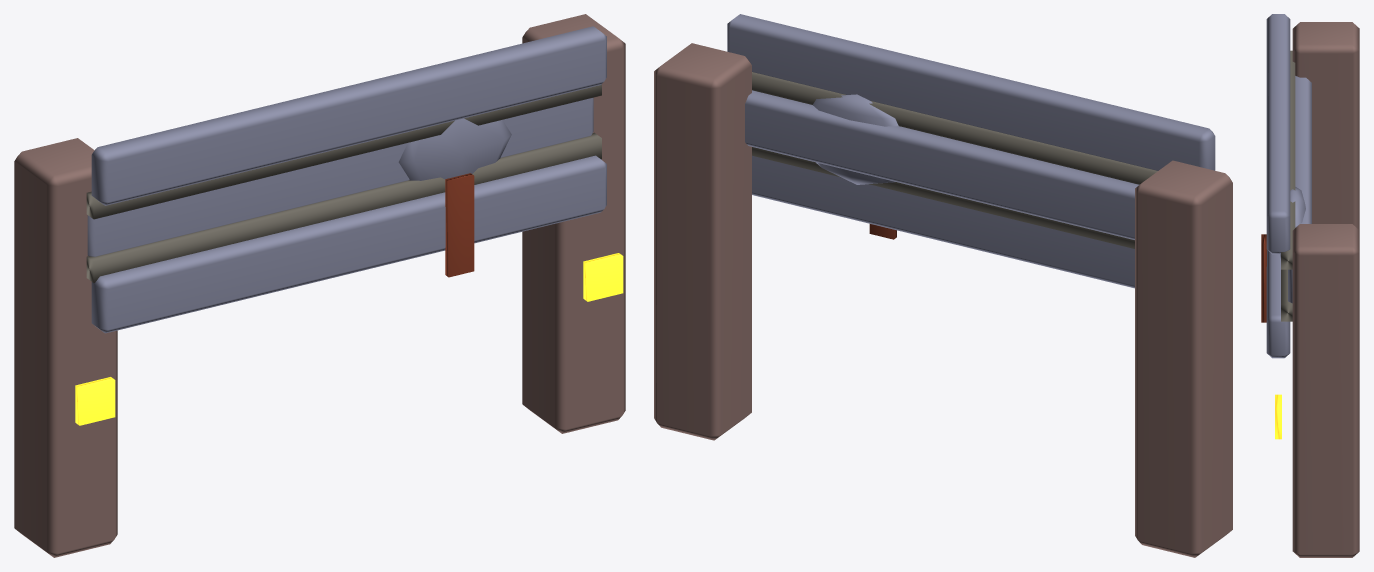
The model's file is guardrail.glb.
3 views of the same model, side by side, from view 1: azimuth 30°, elevation 25°; view 2: azimuth 150°, elevation 25°; view 3: azimuth 270°, elevation 25° (orthographic). The views are drawn at different scales.
Parts seen in each view (by area): view 1: Rail; view 2: Rail; view 3: Rail.
Part boxes in pixels (x1,y1,x2,y2): Rail: (14,14,625,557); Rail: (654,14,1232,557); Rail: (1261,14,1359,557).
Bounding box in the file's own units: 1.14 × 0.77 × 0.206.
